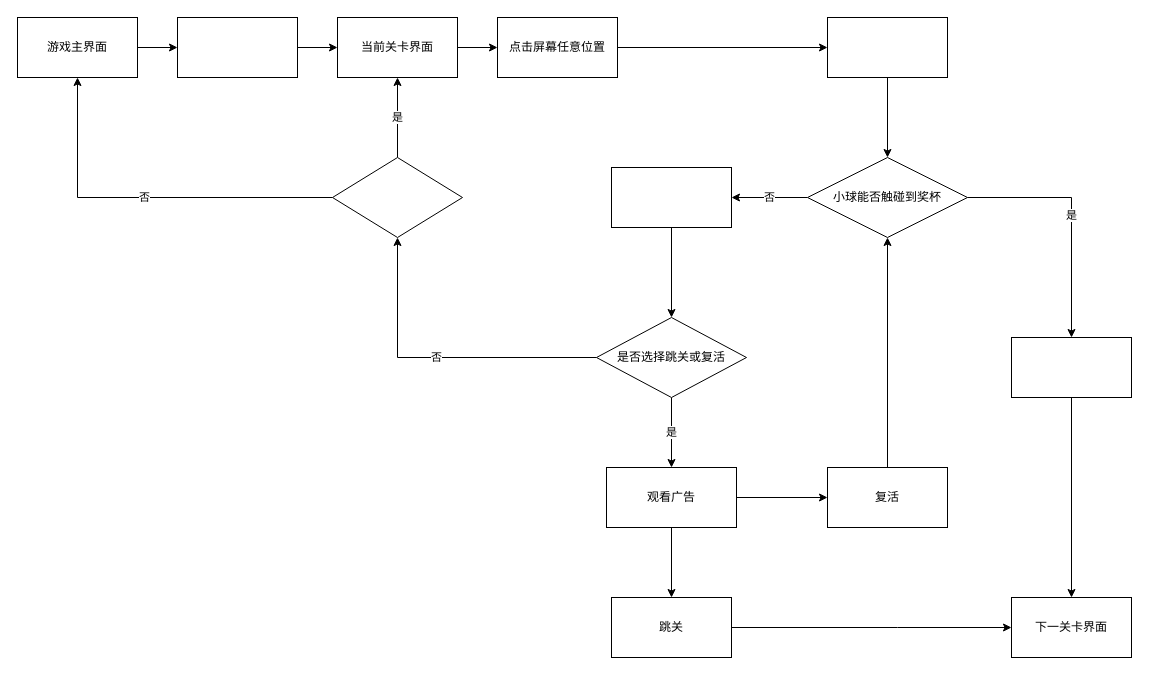
This 1149x675 diagram has some shape labels left out. Here are the shapes that lost their labels. From the top down, the centre of each, then its label:
At (237,47): "点击开始按钮".
At (887,47): "游戏开始".
At (397,197): "是否重新开始游戏".
At (671,197): "游戏失败".
At (1071,367): "游戏胜利".
